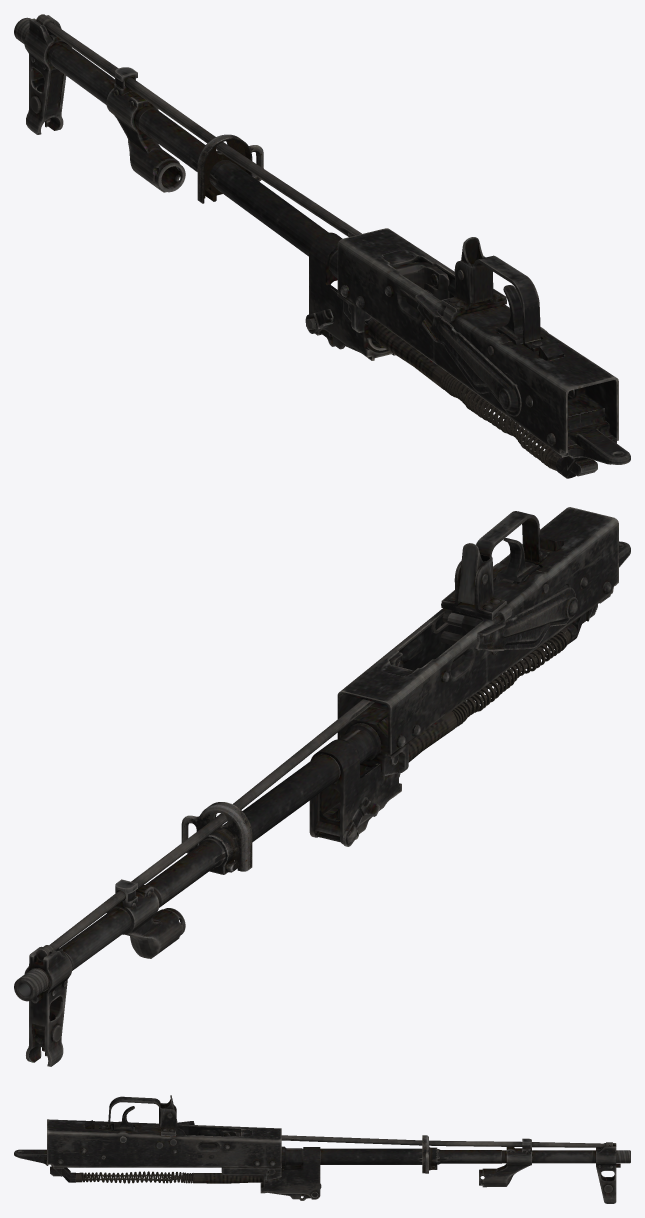
3 views of the same model, one above another, from view 1: azimuth 30°, elevation 25°; view 2: azimuth 150°, elevation 25°; view 3: azimuth 270°, elevation 25° (orthographic). The views are drawn at different scales.
Visible parts, largest first — view 1: TW_59d6088586f774275f37482f_PZ_Import; view 2: TW_59d6088586f774275f37482f_PZ_Import; view 3: TW_59d6088586f774275f37482f_PZ_Import.
Part boxes in pixels (x1,y1,x2,y2): TW_59d6088586f774275f37482f_PZ_Import: (14, 14, 630, 478); TW_59d6088586f774275f37482f_PZ_Import: (14, 507, 630, 1066); TW_59d6088586f774275f37482f_PZ_Import: (14, 1095, 630, 1203).
Size of the model in its own units: 0.0291 by 0.3894 by 0.0736.
1 material, 1 textured.
